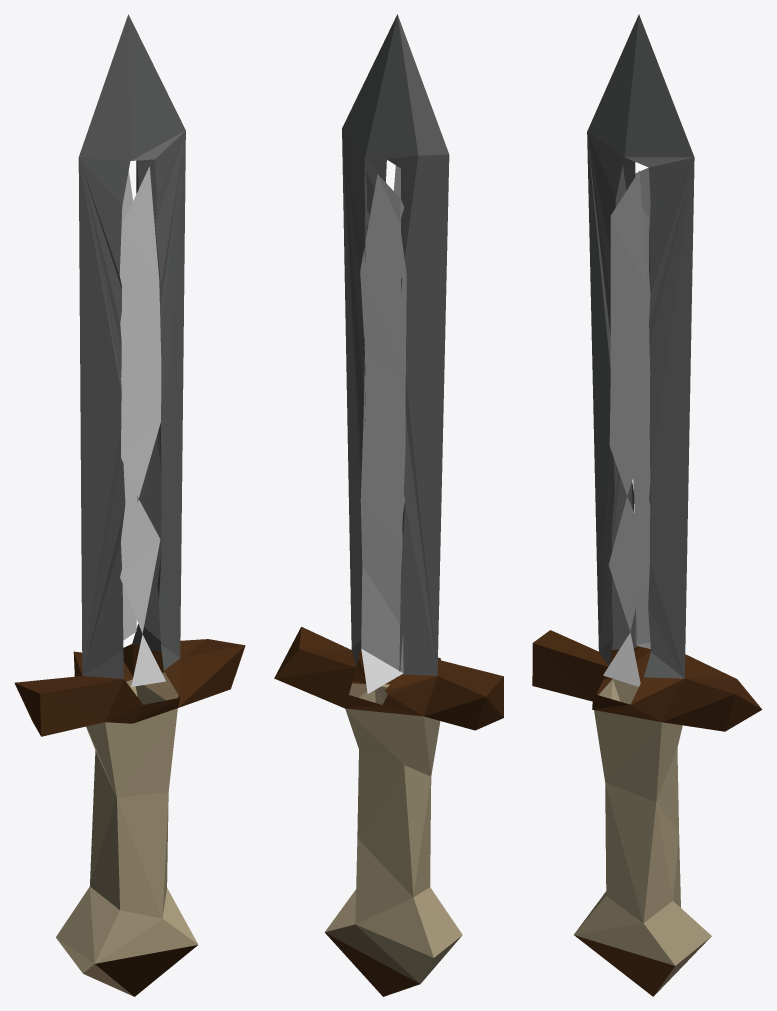
File: aithrall_sword_lo.glb
The picture shows the model from 3 angles, left to right: view 1: azimuth 30°, elevation 25°; view 2: azimuth 150°, elevation 25°; view 3: azimuth 330°, elevation 25°; orthographic projection.
Visible parts, largest first — view 1: ca_aithrall_sword_lo; view 2: ca_aithrall_sword_lo; view 3: ca_aithrall_sword_lo.
Boxes of the visible parts, x1,y1,x2,y2 form: ca_aithrall_sword_lo: (14, 14, 245, 996); ca_aithrall_sword_lo: (274, 14, 503, 996); ca_aithrall_sword_lo: (532, 14, 762, 996).
Size of the model in its own units: 0.2243 by 1.01 by 0.1174.
